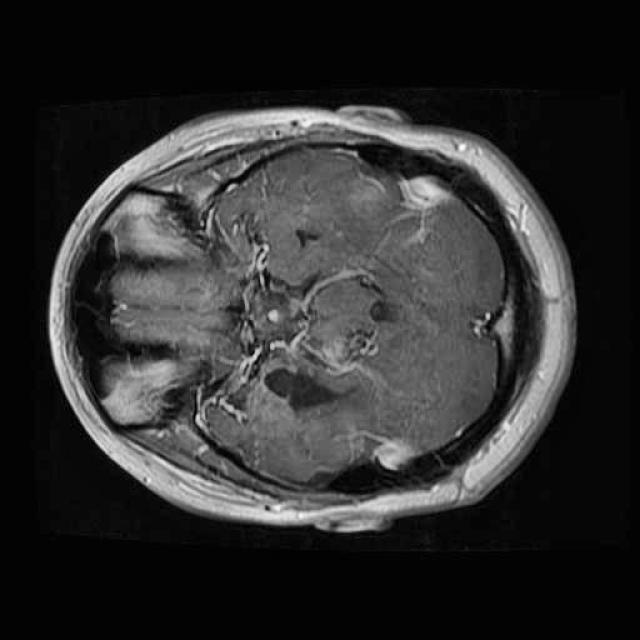Non-Tumor: (250, 305, 389, 425)
